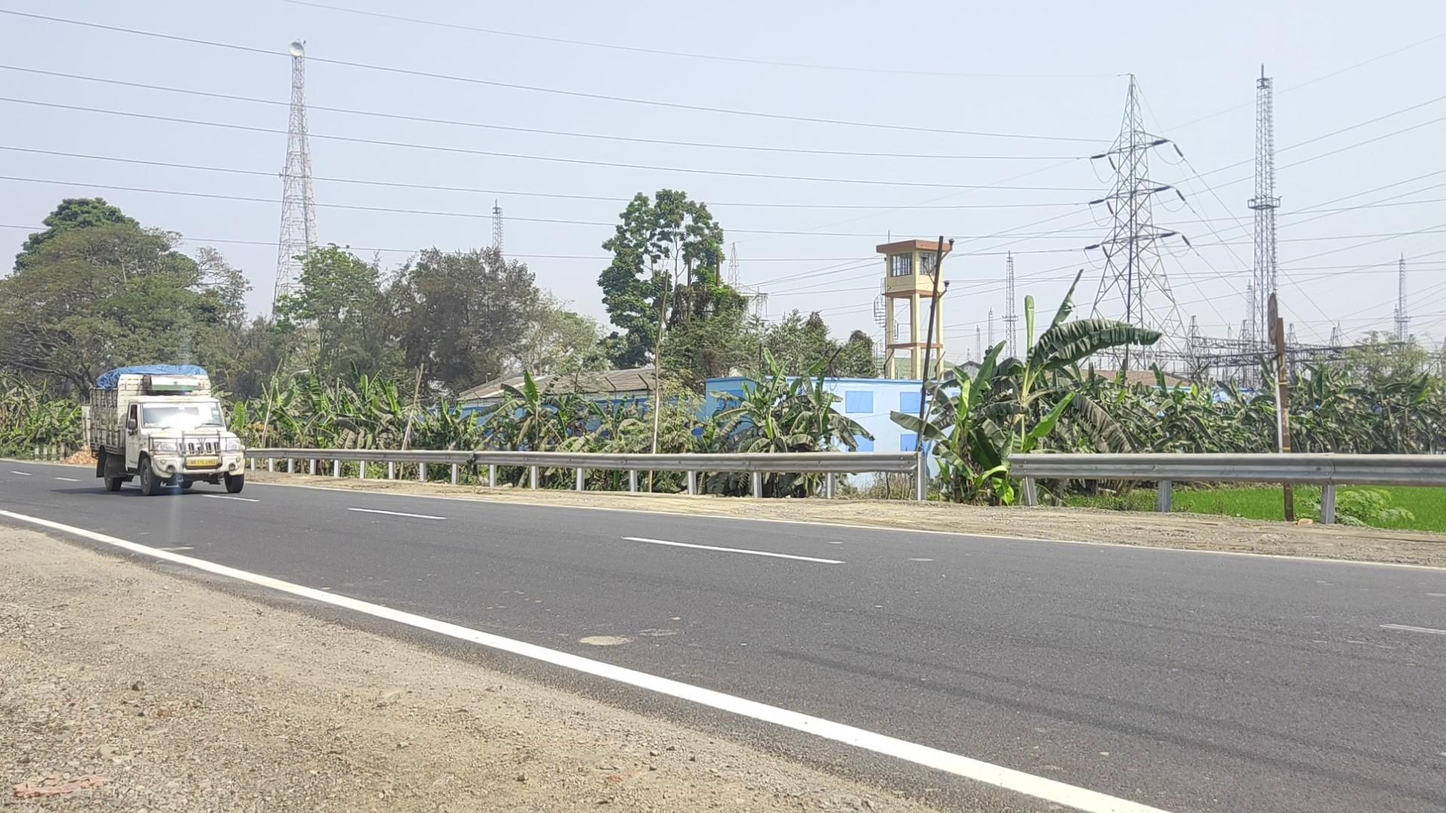van: (89, 364, 246, 496)
